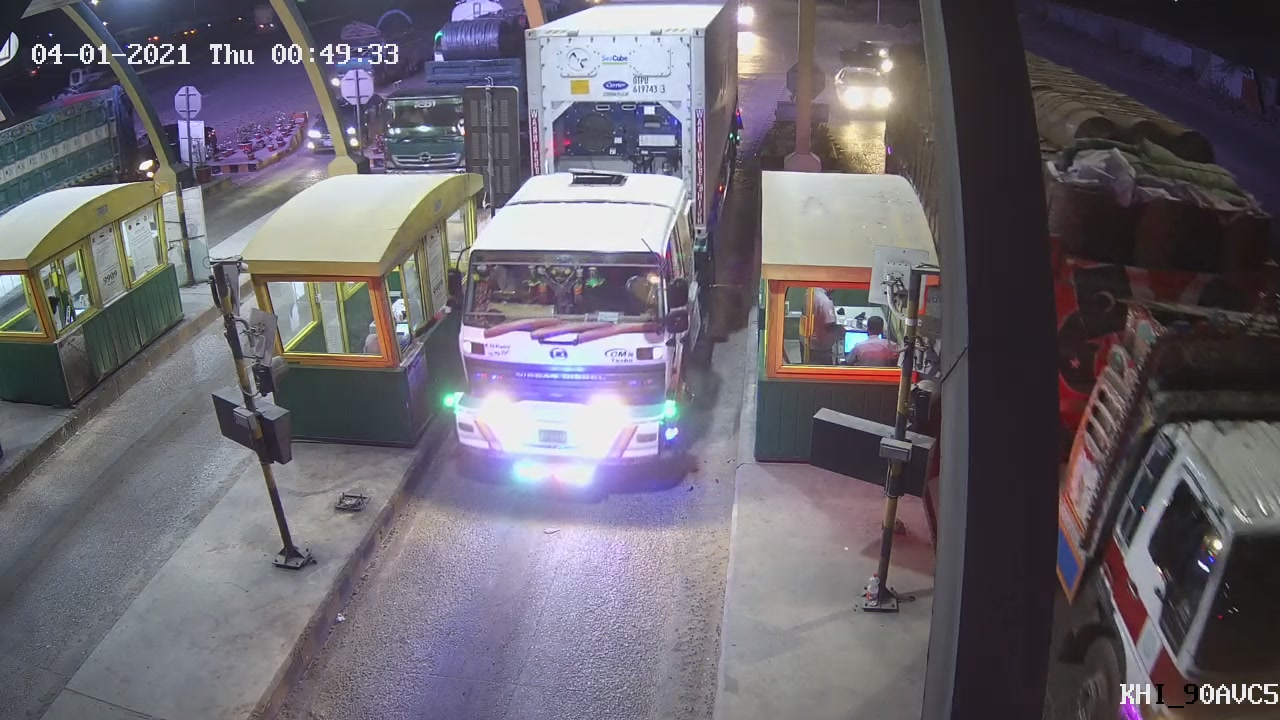F6: (433, 30, 721, 506)
